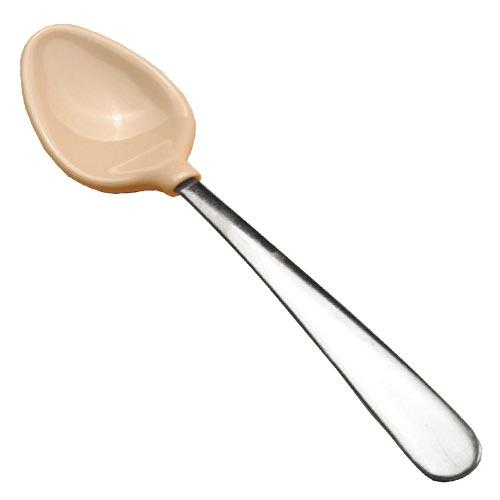Spoon: (19, 23, 482, 482)
